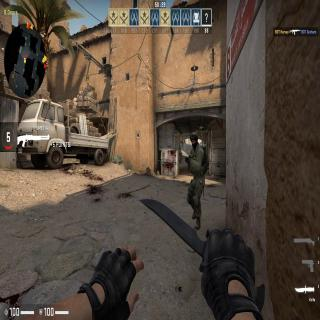CT-Body: (185, 131, 209, 231), (179, 150, 181, 163), (182, 139, 184, 149)
CT-Head: (189, 131, 199, 148), (179, 150, 181, 152)
